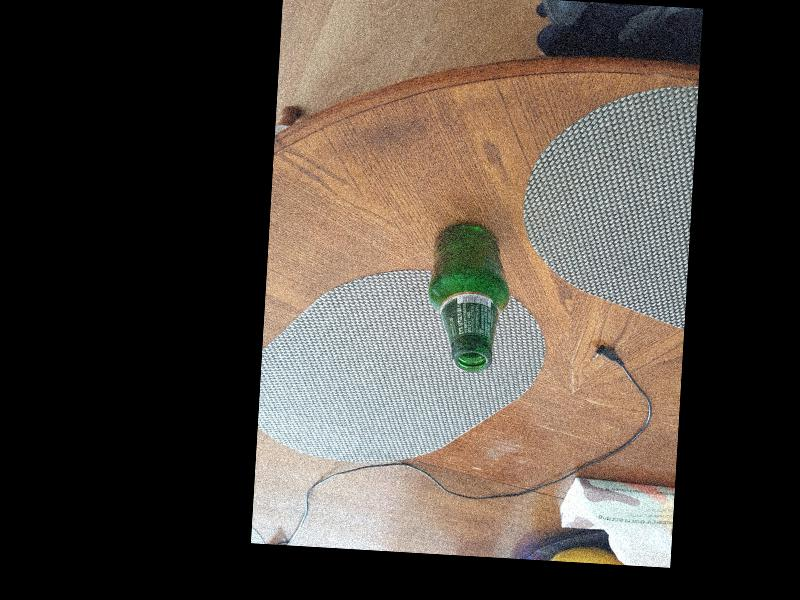Beer: (424, 220, 510, 375)
